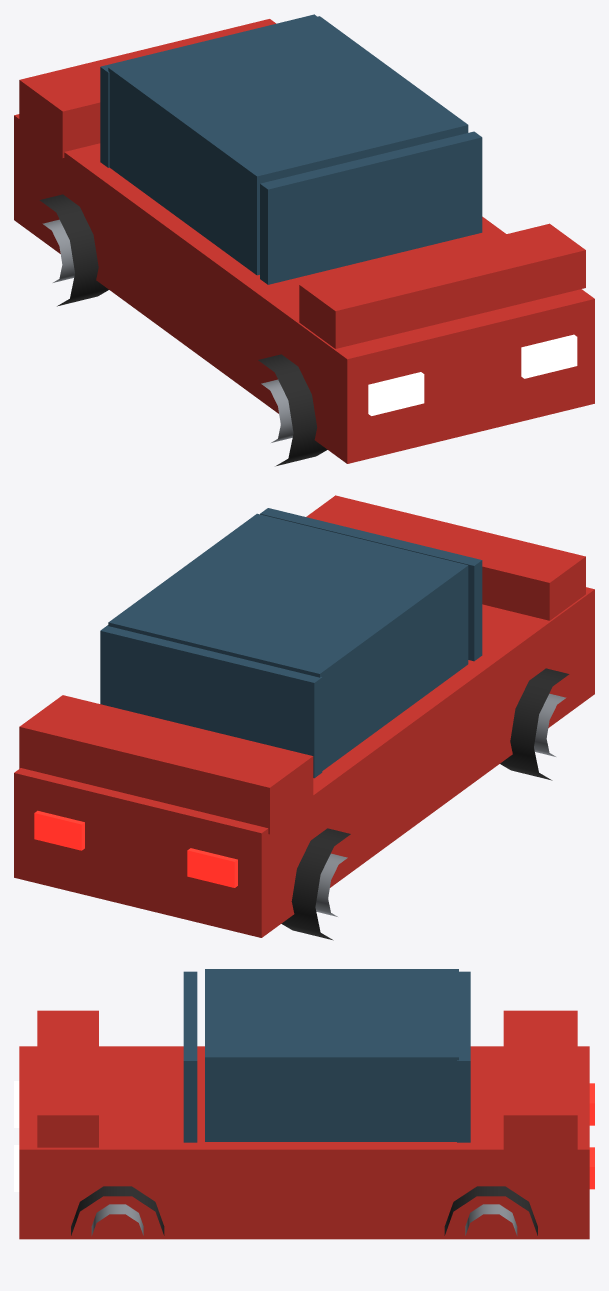
Rendered from RoadTrafficCar.glb.
3 renders of one model, top to bottom at view 1: azimuth 30°, elevation 25°; view 2: azimuth 150°, elevation 25°; view 3: azimuth 270°, elevation 25°, orthographic. The views are drawn at different scales.
Parts seen in each view (by area): view 1: RoadTrafficCar; view 2: RoadTrafficCar; view 3: RoadTrafficCar.
Boxes of the visible parts, <box> form: RoadTrafficCar: <box>14,14,594,466</box>; RoadTrafficCar: <box>14,495,594,940</box>; RoadTrafficCar: <box>14,969,594,1239</box>.
Size of the model in its own units: 2.13 by 1.62 by 4.23.
